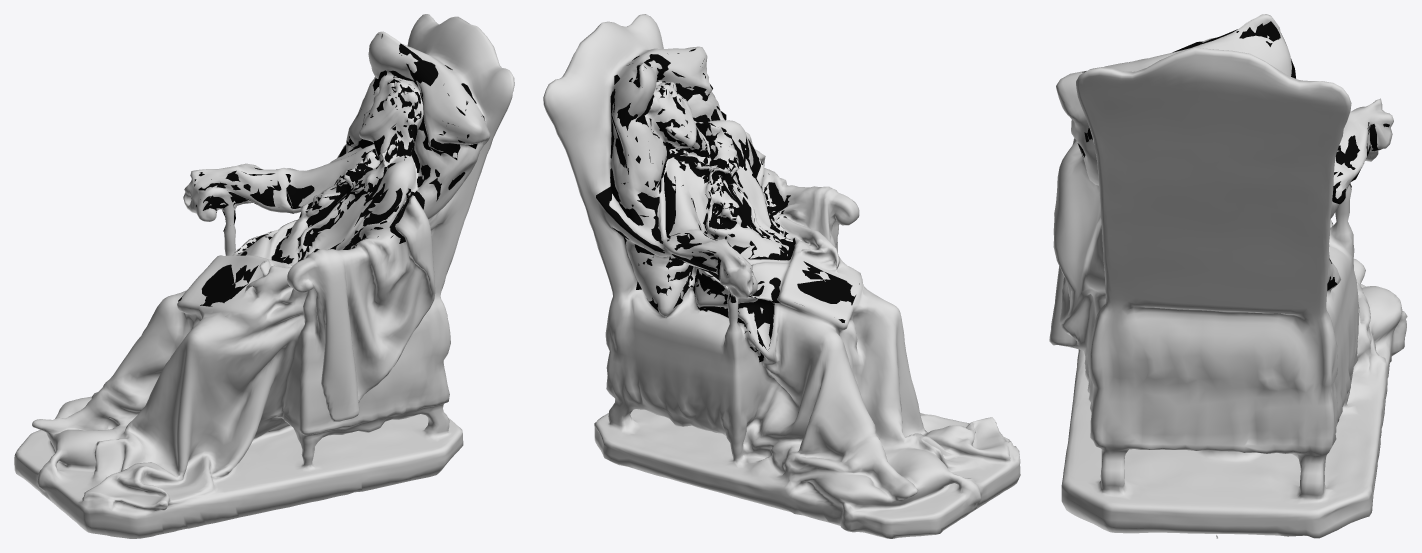
File: MozartV1.glb
The picture shows the model from 3 angles, left to right: view 1: azimuth 30°, elevation 25°; view 2: azimuth 150°, elevation 25°; view 3: azimuth 270°, elevation 25°; orthographic projection. The views are drawn at different scales.
Visible parts, largest first — view 1: Lopoly, Plane; view 2: Lopoly, Plane; view 3: Lopoly, Plane.
Part boxes in pixels (bbox=[...]): Lopoly: bbox=[14, 14, 514, 538]; Plane: bbox=[178, 34, 484, 306]; Lopoly: bbox=[543, 14, 1020, 538]; Plane: bbox=[596, 48, 859, 362]; Lopoly: bbox=[1049, 14, 1407, 538]; Plane: bbox=[1077, 21, 1389, 290].
Bounding box in the file's own units: 6.1 × 5.45 × 3.4.
Materials: 2 (1 with a texture image).
